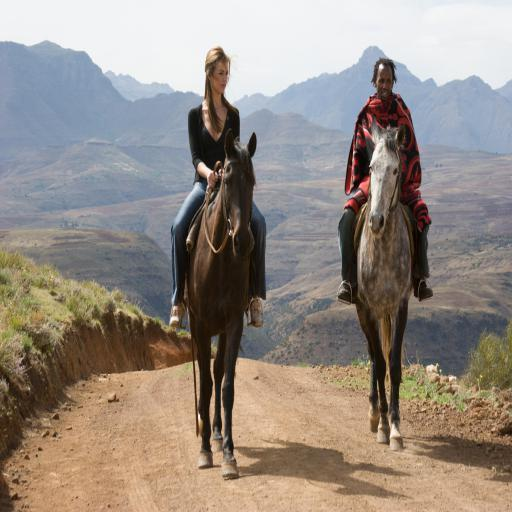horse: (182, 124, 256, 483), (356, 113, 418, 454)
